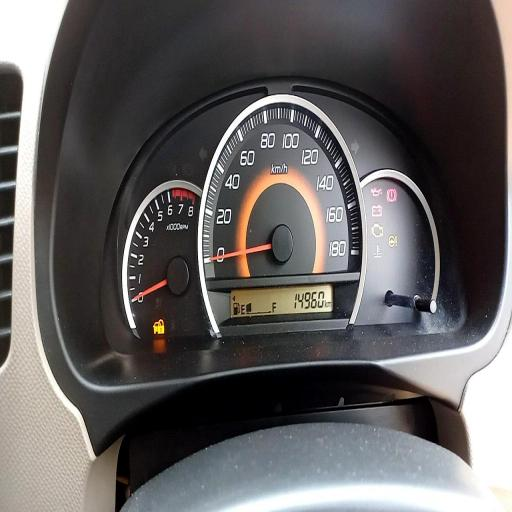brake_system_fault: (387, 188, 397, 202)
car_closed: (153, 318, 164, 336)
check_engine: (371, 222, 383, 238)
oil: (371, 187, 382, 198)
tachometer: (122, 177, 202, 343)
vehicle_charging: (371, 204, 382, 217)
